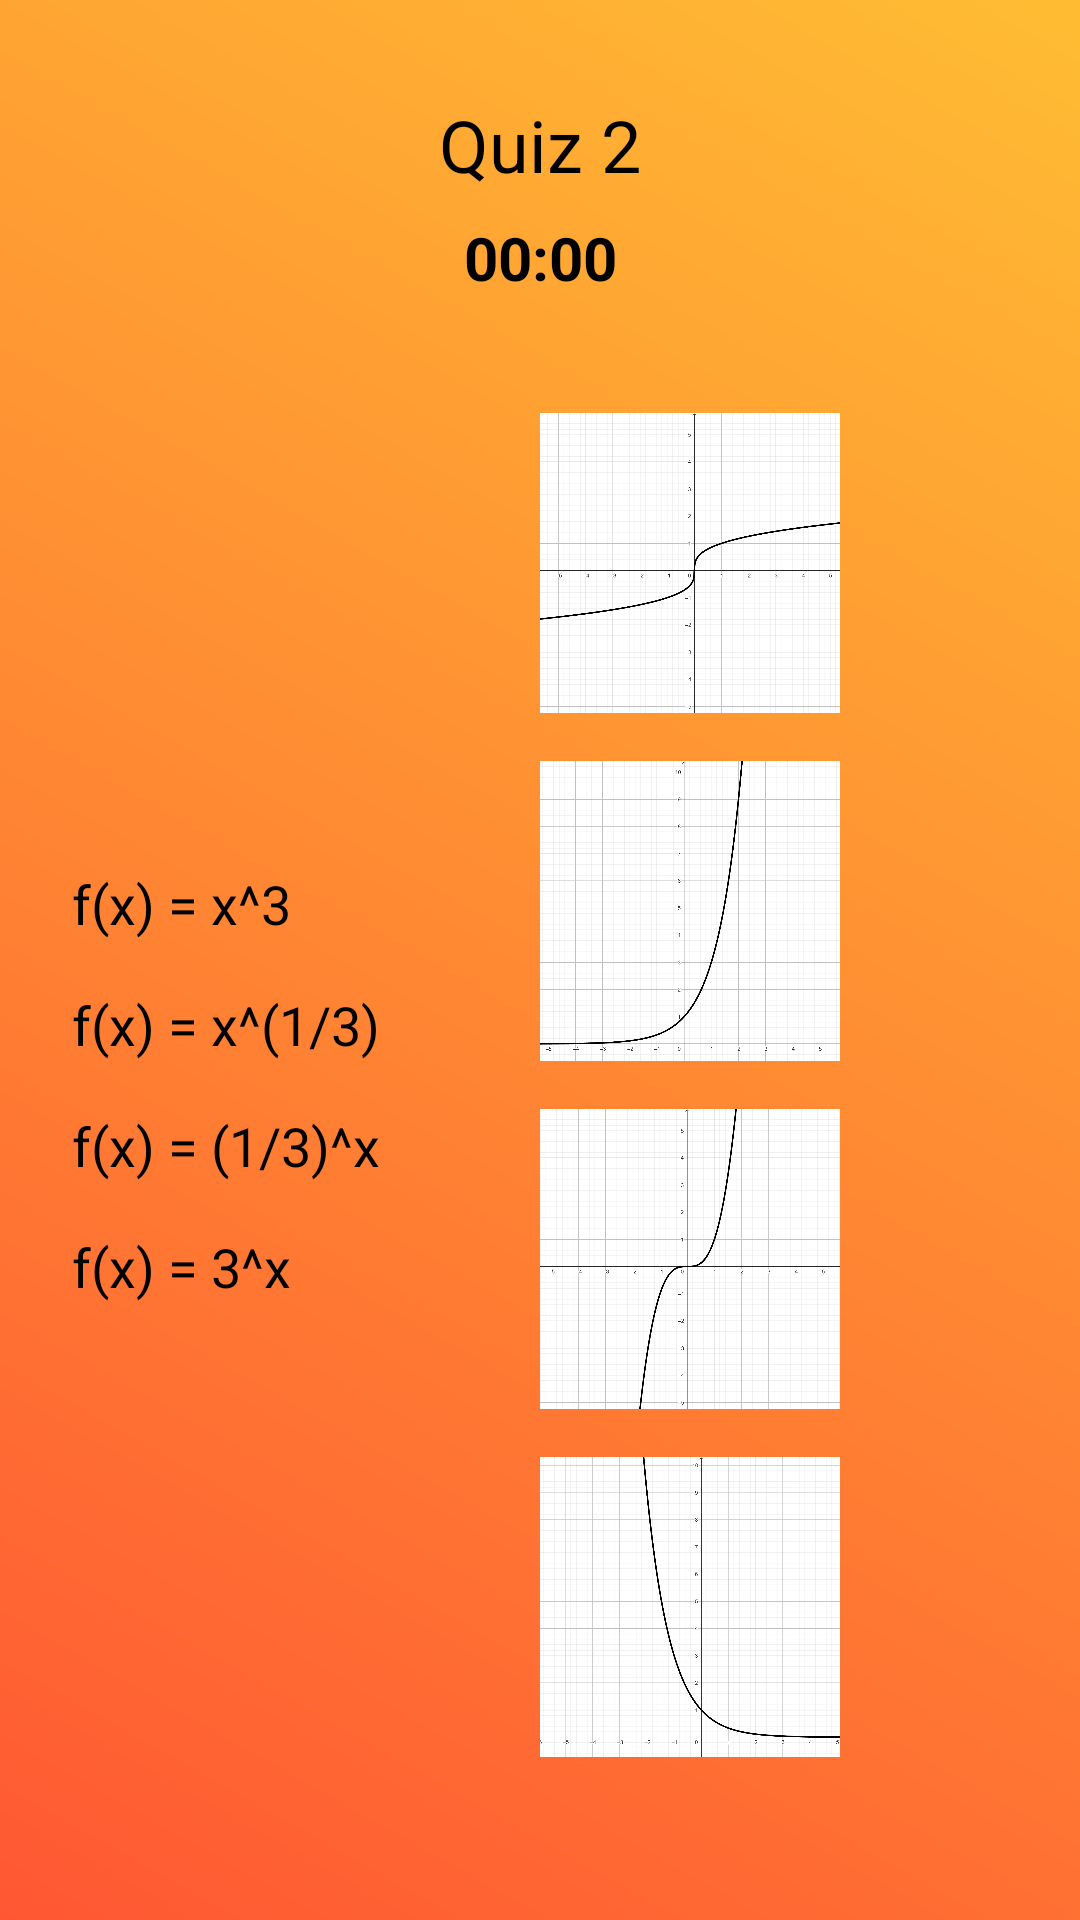

Icon click points for this 1080*1920 phone screenshot, format point (x, y):
graph: point (690, 563), point (690, 911), point (690, 1259), point (690, 1607)
